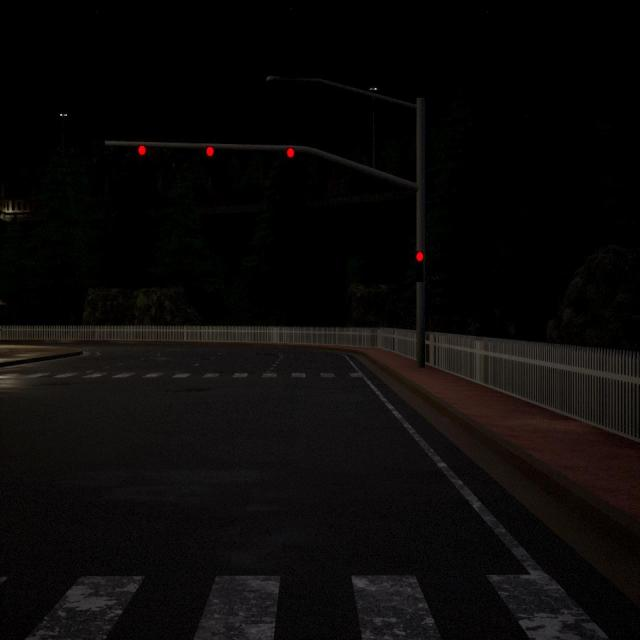traffic_light: (413, 250, 424, 281), (138, 144, 146, 157), (286, 146, 294, 159), (206, 145, 214, 157)
